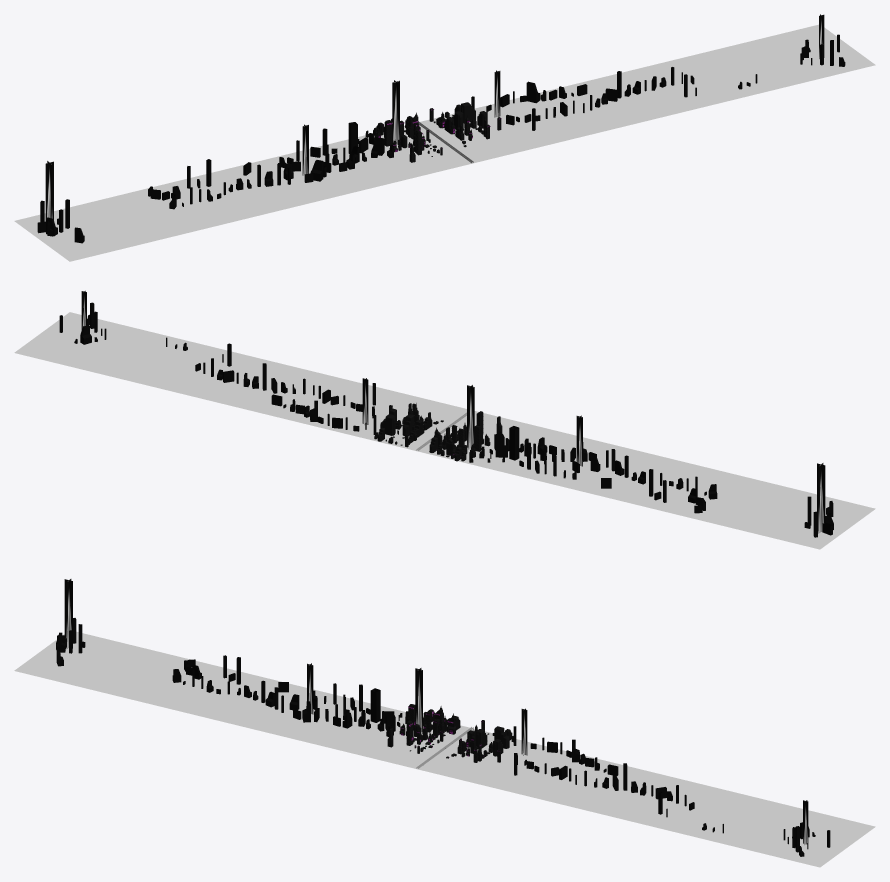
File: cit1.FBX
3 views of the same model, one above another, from view 1: azimuth 30°, elevation 25°; view 2: azimuth 150°, elevation 25°; view 3: azimuth 330°, elevation 25° (orthographic).
Visible parts, largest first — view 1: Plane024, Buildding015; view 2: Plane024, Buildding015; view 3: Plane024, Buildding015.
Boxes of the visible parts, x1,y1,x2,y2 form: Plane024: [14, 24, 875, 261]; Buildding015: [37, 14, 845, 243]; Plane024: [14, 312, 875, 549]; Buildding015: [59, 290, 833, 537]; Plane024: [14, 631, 875, 867]; Buildding015: [56, 579, 830, 856].
Size of the model in its own units: 20000 by 2431 by 1791.
